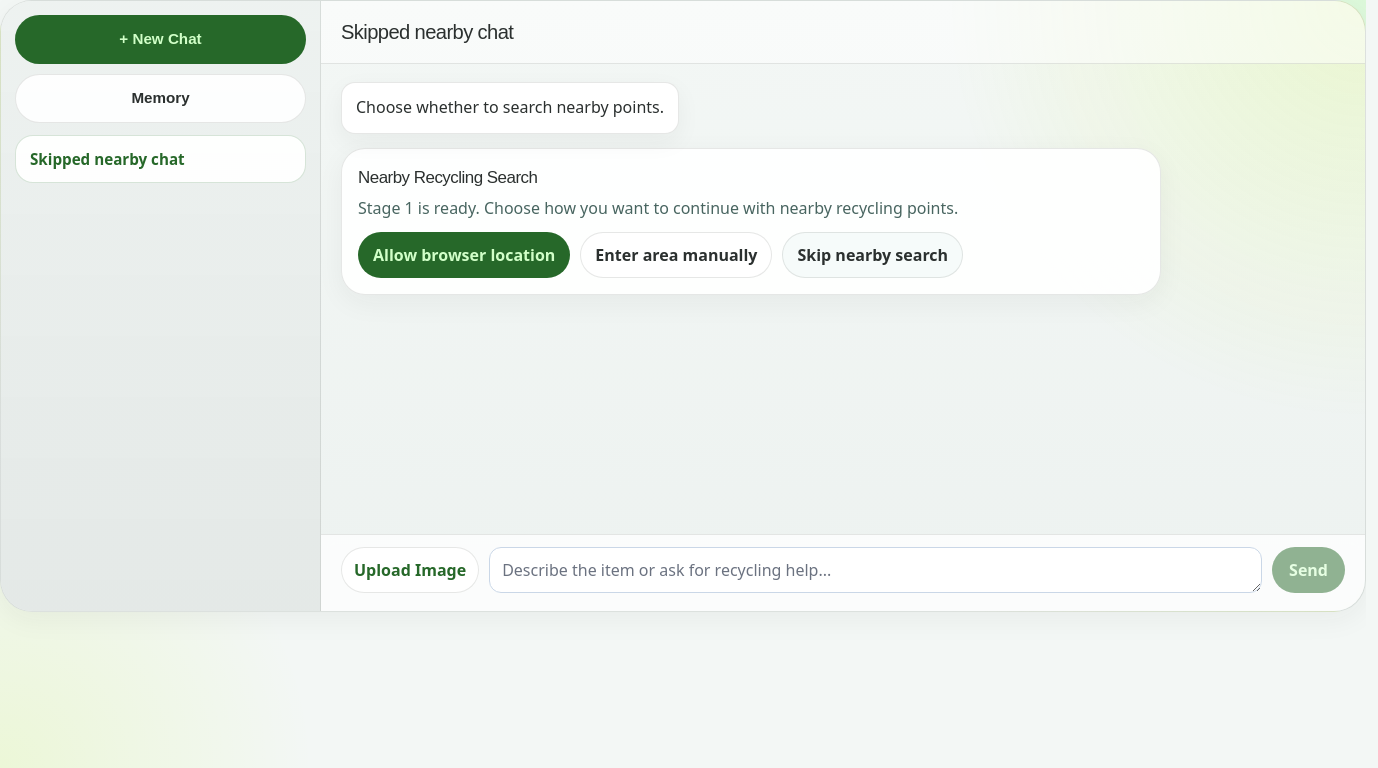
Test: AiChatView › shows a skipped-nearby result card and keeps the completion audit last when the user skips location search
Click the button with class "chat-card__button" showing "Skip nearby search".
click(873, 255)  # box [782,232,963,278]
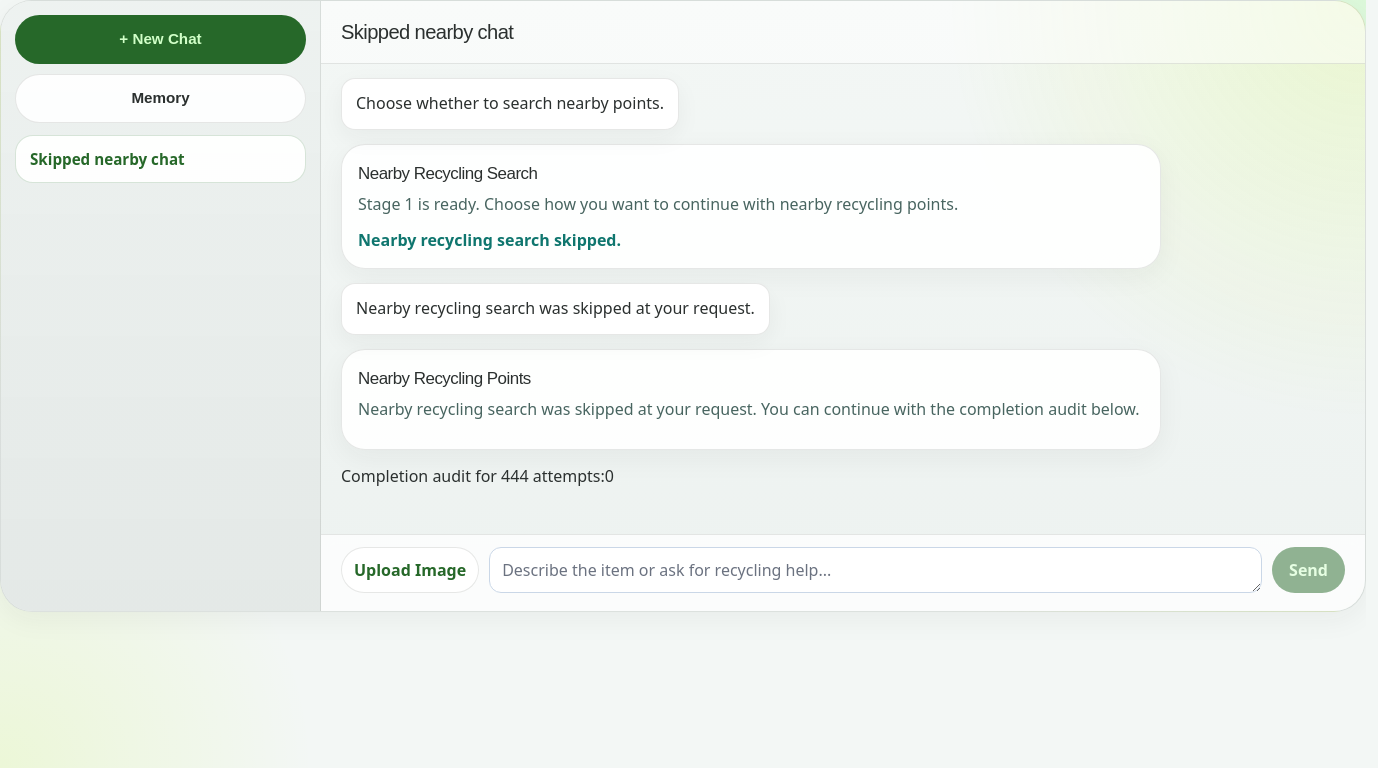
Now the text "Nearby recycling search was skipped at your request. You can continue with the completion audit below." is shown, box [358,398,1140,420]
Now the text "Completion audit for 444" is shown, box [341,465,614,487]
